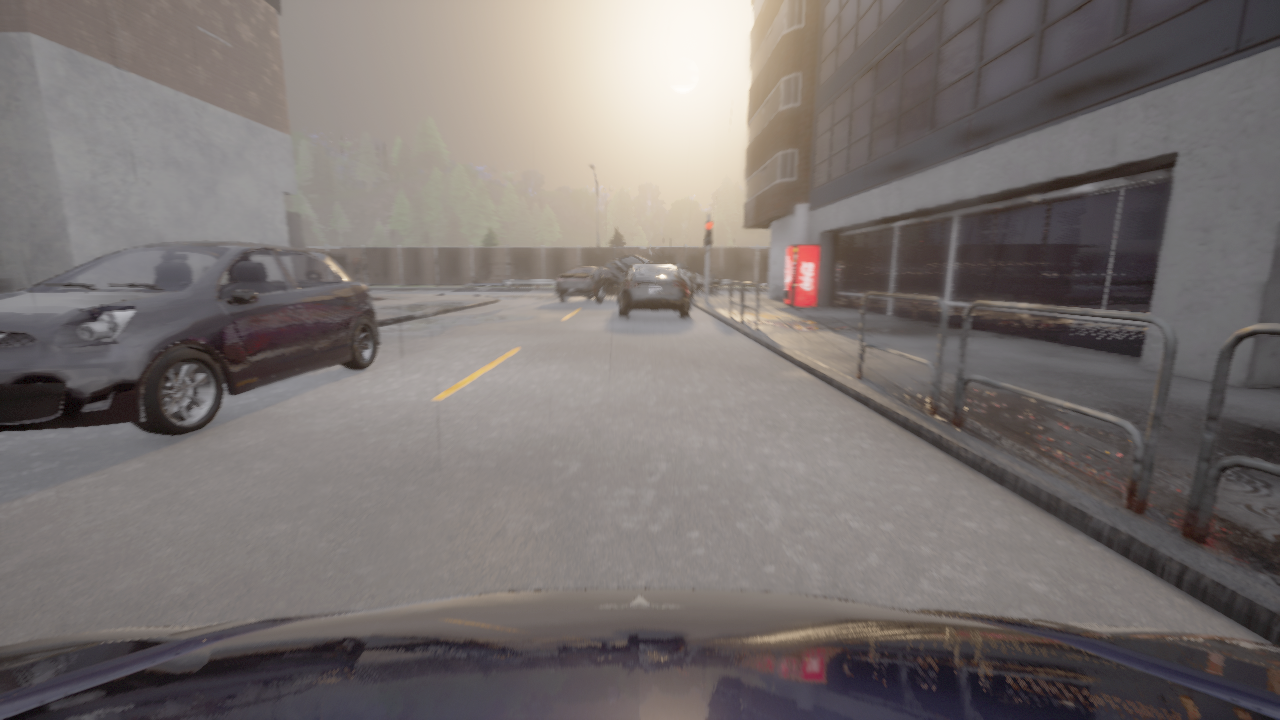cyclist: (0, 588, 1279, 719), (0, 241, 379, 435), (618, 264, 690, 316), (555, 266, 618, 302), (647, 261, 694, 298), (676, 261, 721, 294), (606, 255, 652, 286), (766, 282, 767, 288)
